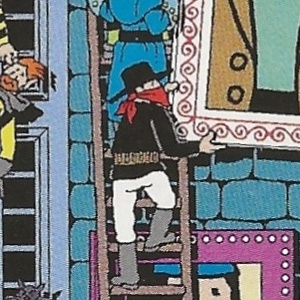Odlaw: (144, 99, 157, 202)
